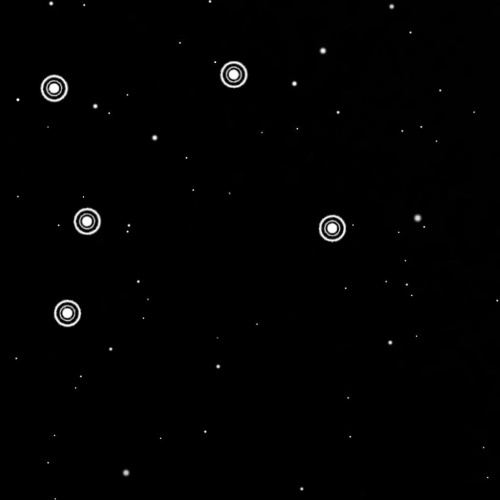libra: (32, 62, 353, 331)
